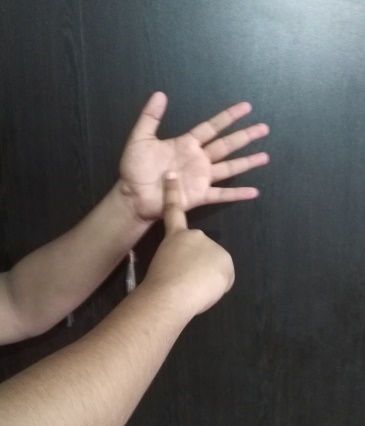oo: (117, 90, 271, 306)
